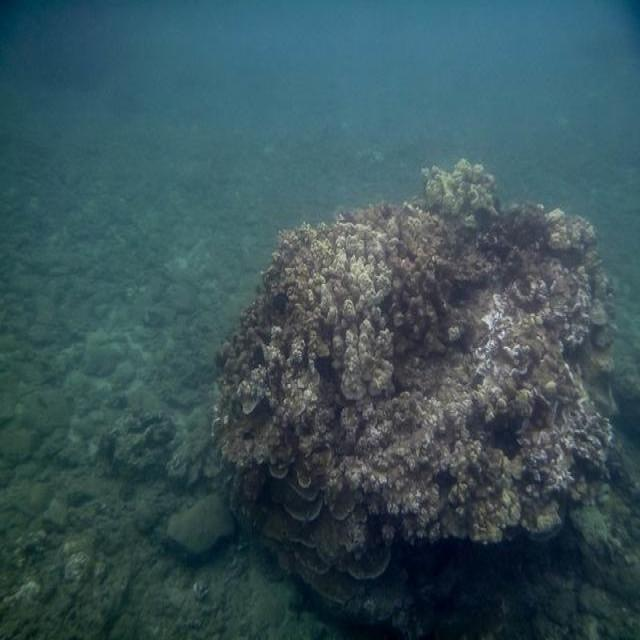reefs: (208, 158, 619, 599)
